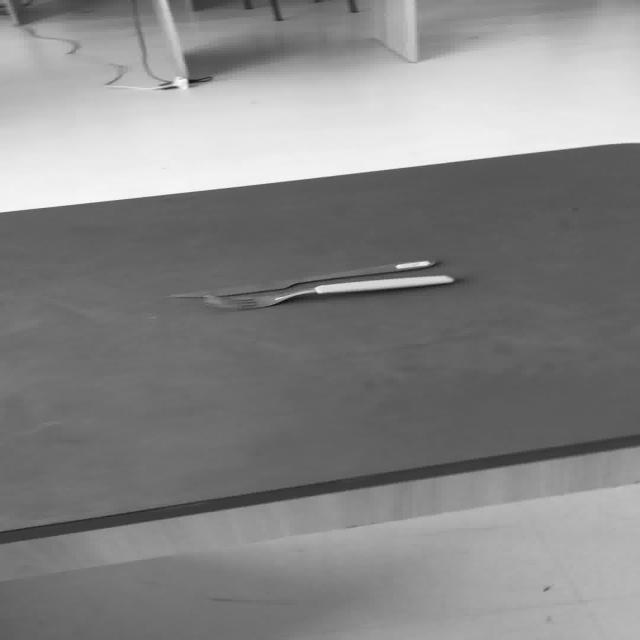fork: (202, 273, 455, 310)
knife fork: (168, 258, 436, 299)
